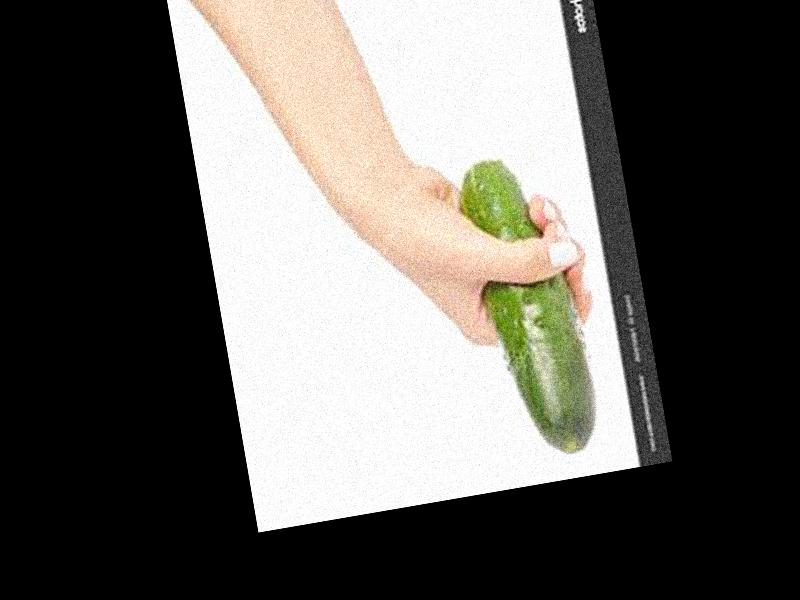Cucumber: (453, 150, 604, 465)
